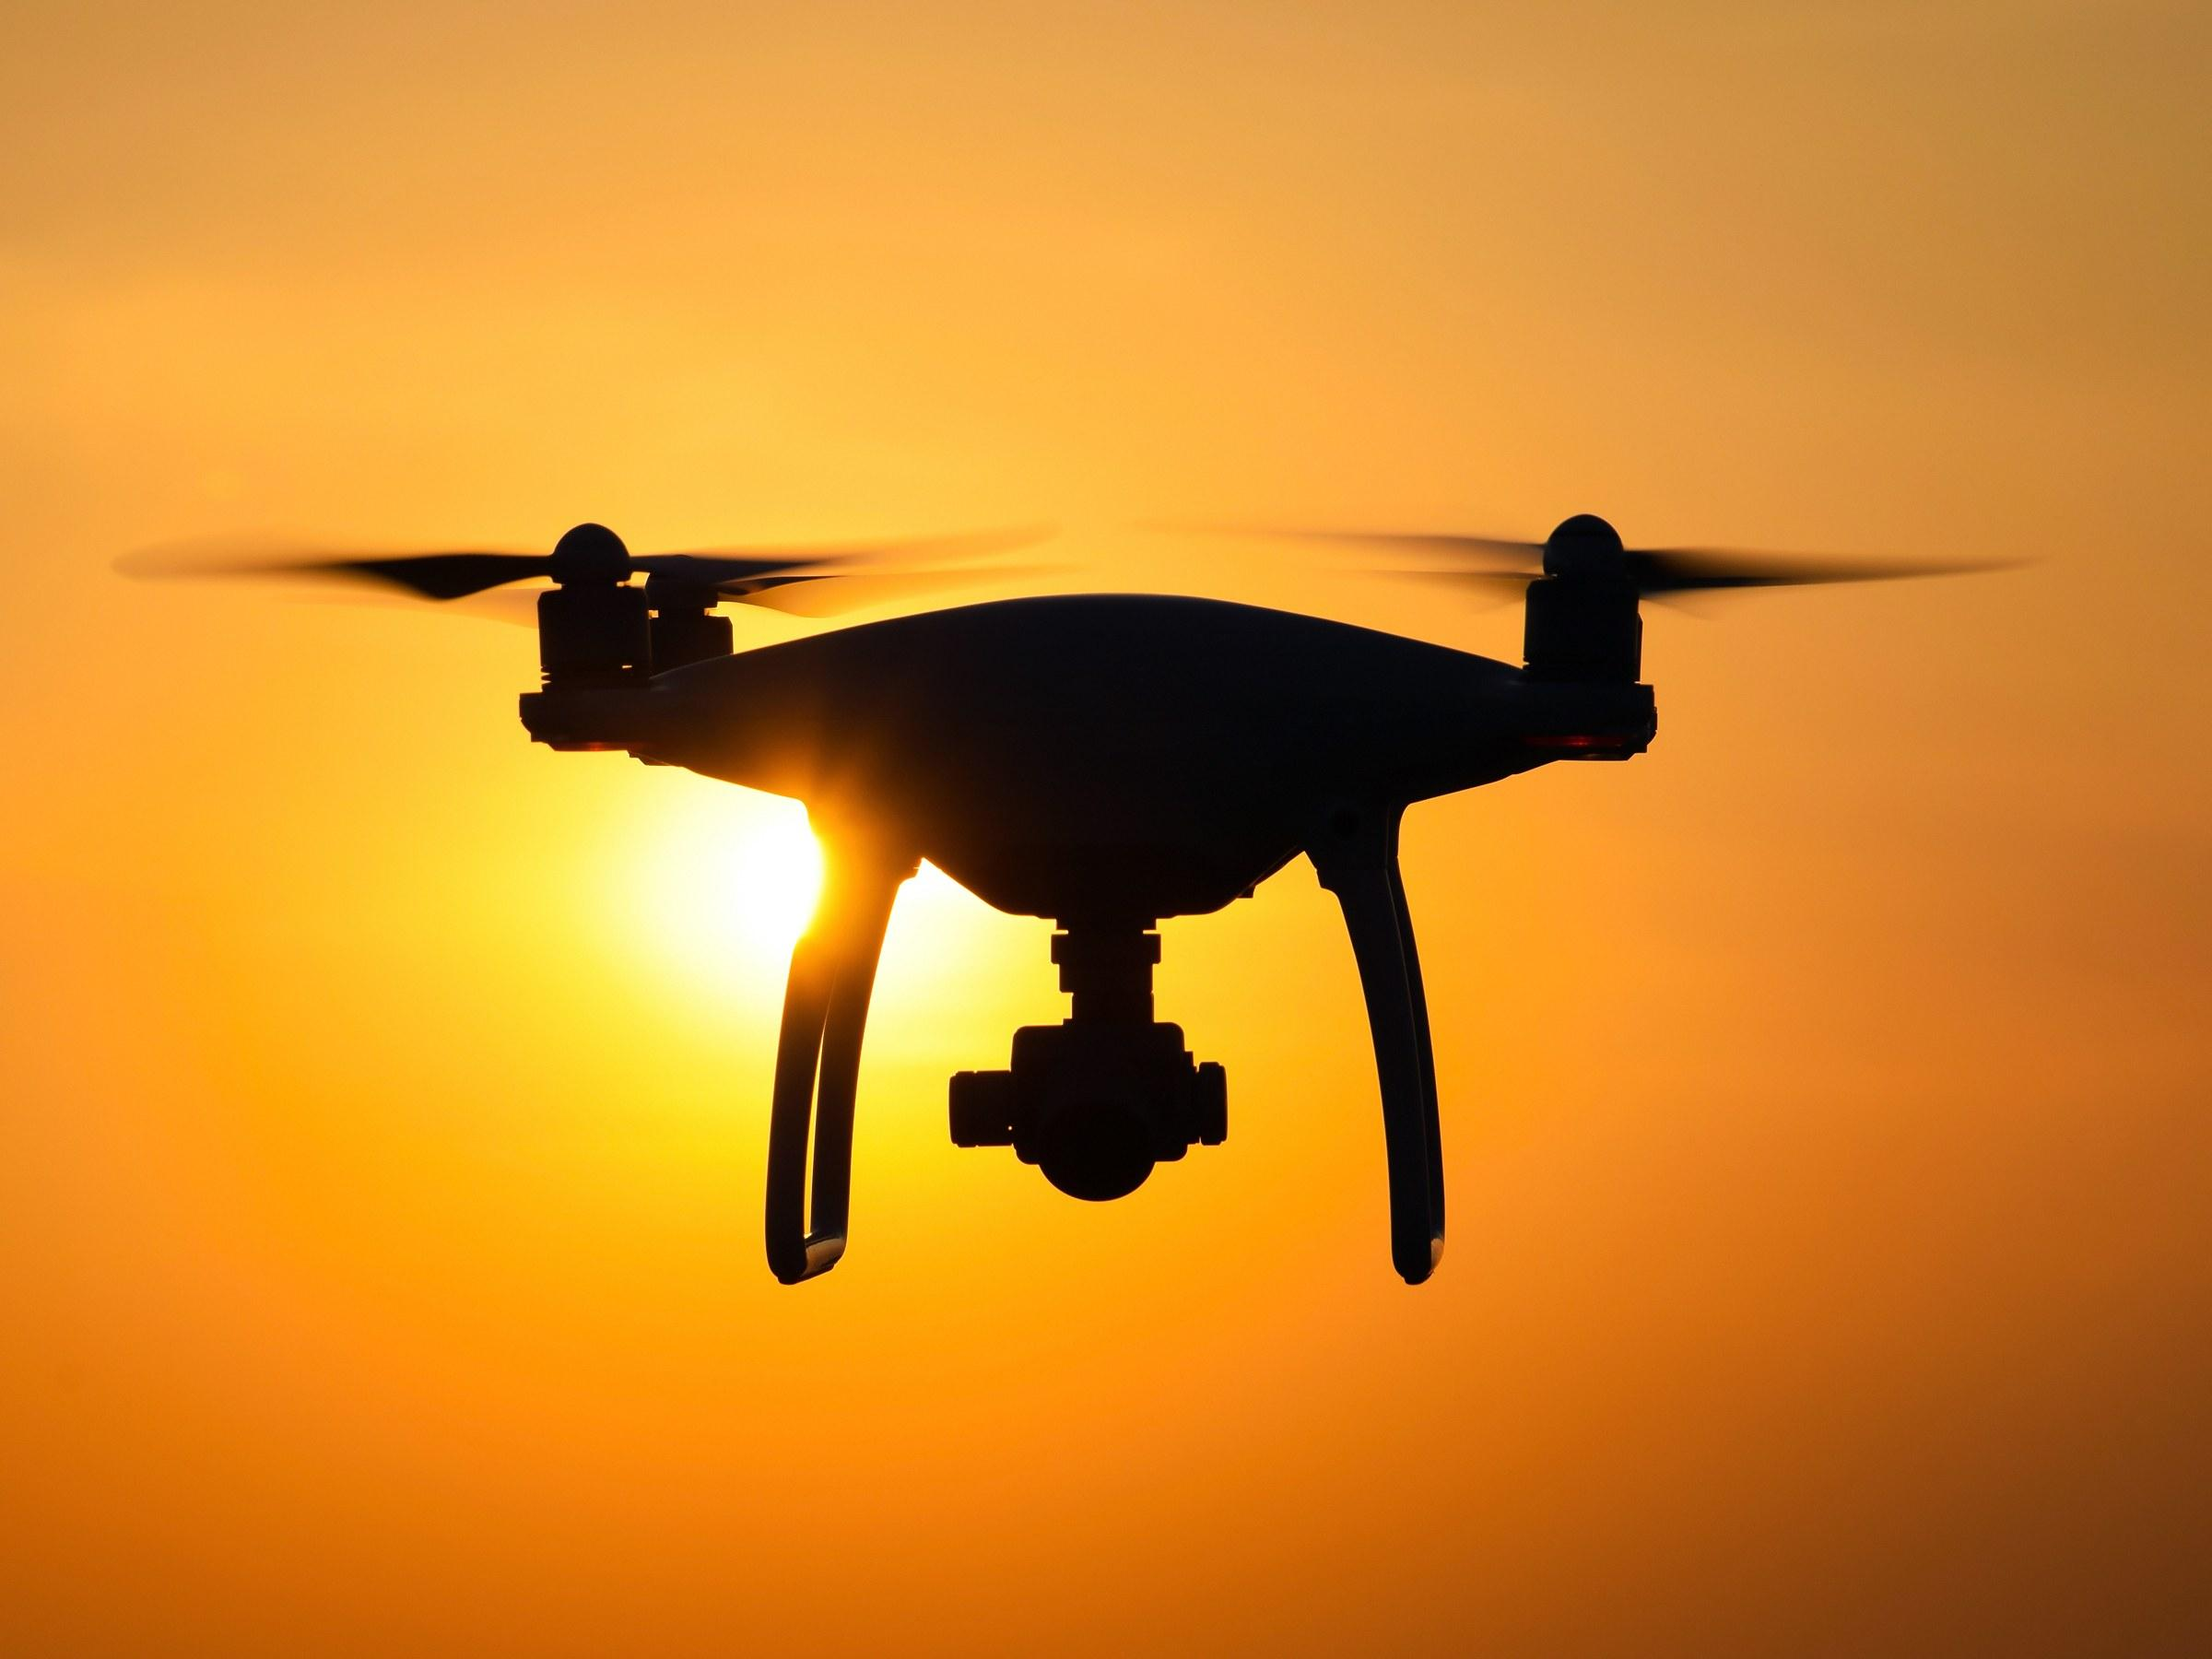drone: (197, 460, 2109, 1011)
